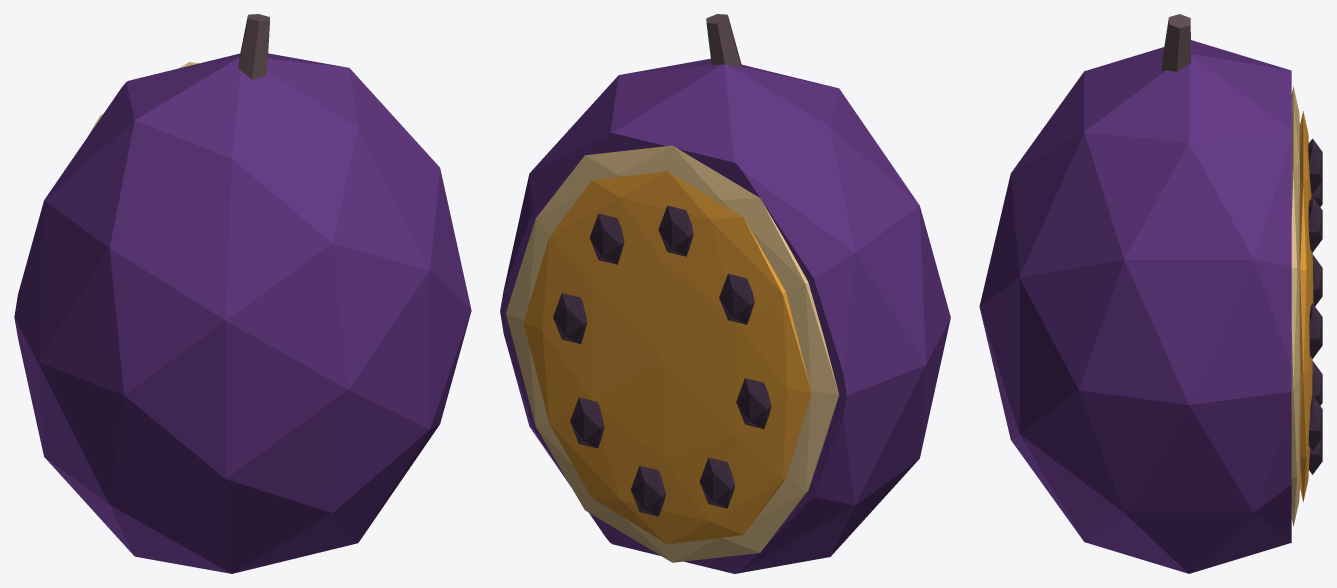
Rendered from Passionfruit.glb.
3 renders of one model, left to right at view 1: azimuth 30°, elevation 25°; view 2: azimuth 150°, elevation 25°; view 3: azimuth 270°, elevation 25°, orthographic.
Parts seen in each view (by area): view 1: Passionfruit_PassionfruitRind, Passionfruit_PassionfruitStem; view 2: Passionfruit_PassionfruitRind, Passionfruit_PassionfruitPulp, Passionfruit_PassionfruitPith, Passionfruit_PassionfruitSeeds, Passionfruit_PassionfruitStem; view 3: Passionfruit_PassionfruitRind, Passionfruit_PassionfruitPulp, Passionfruit_PassionfruitPith, Passionfruit_PassionfruitSeeds, Passionfruit_PassionfruitStem.
Part boxes in pixels (x1=…): Passionfruit_PassionfruitRind: x1=14, y1=53, x2=471, y2=573; Passionfruit_PassionfruitStem: x1=238, y1=14, x2=269, y2=79; Passionfruit_PassionfruitRind: x1=500, y1=58, x2=950, y2=573; Passionfruit_PassionfruitPulp: x1=523, y1=171, x2=811, y2=544; Passionfruit_PassionfruitPith: x1=506, y1=145, x2=839, y2=562; Passionfruit_PassionfruitSeeds: x1=553, y1=205, x2=771, y2=516; Passionfruit_PassionfruitStem: x1=706, y1=14, x2=741, y2=67; Passionfruit_PassionfruitRind: x1=979, y1=40, x2=1291, y2=573; Passionfruit_PassionfruitPulp: x1=1299, y1=111, x2=1313, y2=501; Passionfruit_PassionfruitPith: x1=1291, y1=86, x2=1300, y2=526; Passionfruit_PassionfruitSeeds: x1=1308, y1=138, x2=1322, y2=474; Passionfruit_PassionfruitStem: x1=1161, y1=14, x2=1190, y2=71.
Bounding box in the file's own units: 1 × 1.29 × 0.7363.
